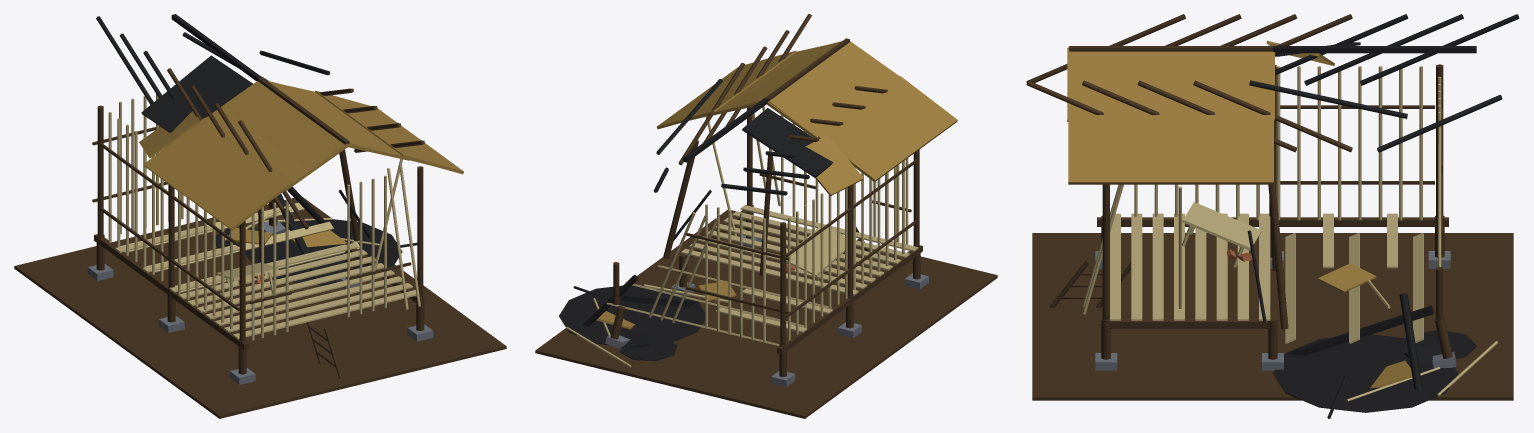
Rendered from battle-damaged-vietnamese-village.glb.
The picture shows the model from 3 angles, left to right: view 1: azimuth 30°, elevation 25°; view 2: azimuth 150°, elevation 25°; view 3: azimuth 270°, elevation 25°; orthographic projection. The views are drawn at different scales.
Visible parts, largest first — view 1: Mesh_GroundMound, Mesh_Thatch_R_L1, Mesh_Thatch_R_Base, Mesh_Thatch_R_Burnt, Mesh_ScorchMark, Mesh_Thatch_L_L1, Mesh_Thatch_R_L2, Mesh_Thatch_L_Base, Mesh_FloorBeam_R, Mesh_Slat_1, Mesh_Thatch_L_L2, Mesh_Slat_2 (+33 smaller); view 2: Mesh_GroundMound, Mesh_Thatch_R_L1, Mesh_ScorchMark, Mesh_Thatch_R_Base, Mesh_Thatch_R_Burnt, Mesh_Thatch_L_L1, Mesh_Thatch_R_L2, Mesh_Thatch_R_Dangle, Mesh_Thatch_L_Base, Mesh_TableTop, Mesh_FloorBeam_R, Mesh_ScorchMark2 (+27 smaller); view 3: Mesh_GroundMound, Mesh_Thatch_L_L1, Mesh_ScorchMark, Mesh_Thatch_L_Base, Mesh_Thatch_L_L2, Mesh_FloorBeam_R, Mesh_TableTop, Mesh_Ridge_Charred, Mesh_FloorBeam_L_Front, Mesh_Slat_1, Mesh_Slat_2, Mesh_FloorBeam_L_Back (+42 smaller).
Part boxes in pixels (left/top/right/bottom): Mesh_GroundMound: left=14, top=197, right=506, bottom=418; Mesh_Thatch_R_L1: left=143, top=117, right=292, bottom=230; Mesh_Thatch_R_Base: left=222, top=81, right=344, bottom=193; Mesh_Thatch_R_Burnt: left=141, top=55, right=252, bottom=132; Mesh_ScorchMark: left=245, top=219, right=402, bottom=285; Mesh_Thatch_L_L1: left=315, top=90, right=463, bottom=174; Mesh_Thatch_R_L2: left=205, top=81, right=348, bottom=190; Mesh_Thatch_L_Base: left=267, top=80, right=426, bottom=164; Mesh_FloorBeam_R: left=94, top=234, right=249, bottom=350; Mesh_Slat_1: left=224, top=283, right=412, bottom=332; Mesh_Thatch_L_L2: left=288, top=85, right=410, bottom=160; Mesh_Slat_2: left=214, top=276, right=401, bottom=325; Mesh_GroundMound: left=535, top=209, right=997, bottom=418; Mesh_Thatch_R_L1: left=818, top=76, right=957, bottom=182; Mesh_ScorchMark: left=559, top=285, right=705, bottom=344; Mesh_Thatch_R_Base: left=769, top=42, right=883, bottom=125; Mesh_Thatch_R_Burnt: left=742, top=108, right=833, bottom=177; Mesh_Thatch_L_L1: left=657, top=50, right=796, bottom=129; Mesh_Thatch_R_L2: left=766, top=41, right=899, bottom=138; Mesh_Thatch_R_Dangle: left=805, top=135, right=863, bottom=196; Mesh_Thatch_L_Base: left=692, top=41, right=841, bottom=119; Mesh_TableTop: left=786, top=225, right=844, bottom=276; Mesh_FloorBeam_R: left=777, top=245, right=922, bottom=354; Mesh_ScorchMark2: left=619, top=336, right=676, bottom=361; Mesh_GroundMound: left=1032, top=233, right=1513, bottom=400; Mesh_Thatch_L_L1: left=1068, top=110, right=1273, bottom=184; Mesh_ScorchMark: left=1273, top=334, right=1458, bottom=412; Mesh_Thatch_L_Base: left=1069, top=51, right=1272, bottom=92; Mesh_Thatch_L_L2: left=1067, top=49, right=1274, bottom=121; Mesh_FloorBeam_R: left=1097, top=217, right=1448, bottom=226; Mesh_TableTop: left=1182, top=202, right=1261, bottom=250; Mesh_Ridge_Charred: left=1273, top=46, right=1476, bottom=53; Mesh_FloorBeam_L_Front: left=1109, top=319, right=1269, bottom=328; Mesh_Slat_1: left=1131, top=213, right=1142, bottom=320; Mesh_Slat_2: left=1152, top=213, right=1163, bottom=320; Mesh_FloorBeam_L_Back: left=1287, top=305, right=1434, bottom=355.
Bounding box in the file's own units: 4.74 × 3.31 × 5.32.
Materials: 1 (1 with a texture image).
